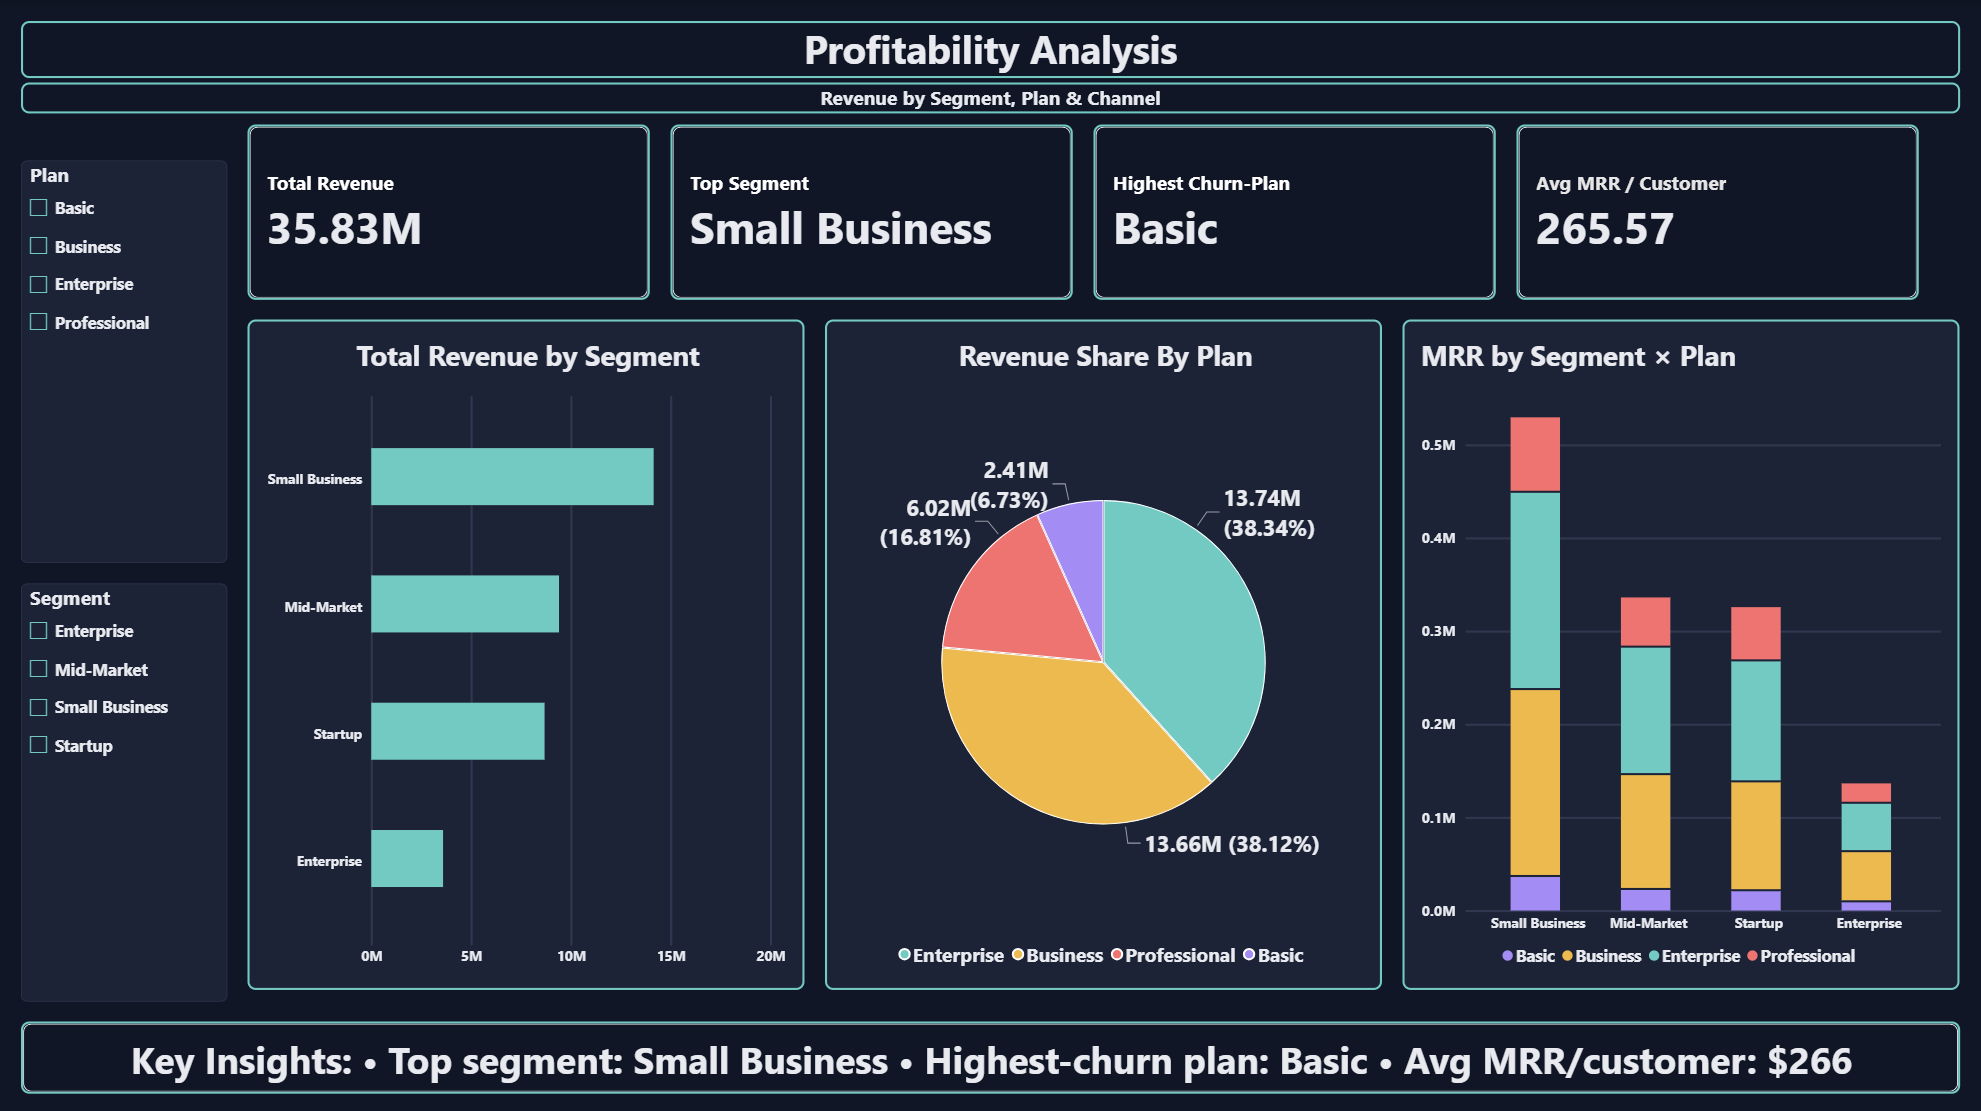

The page's visual inventory and layout, read from the dashboard file:
{"tool":"powerbi","page":{"name":"Profitability","canvas":[1920,1080],"ordinal":3},"visuals":[{"type":"textbox","box":[20,20,1880,55],"z":0},{"type":"clusteredBarChart","title":"Total Revenue by Segment","fields":{"Category":["customers_for_powerbi.segment"],"Y":["Sum(financial_transactions.amount)"]},"box":[240,310,540,650],"z":1000},{"type":"pieChart","title":"Revenue Share By Plan","fields":{"Category":["customers_for_powerbi.plan"],"Y":["Sum(financial_transactions.amount)"]},"box":[800,310,540,650],"z":2000},{"type":"slicer","fields":{"Values":["customers_for_powerbi.plan"]},"box":[20.8,155,200,390],"z":3000},{"type":"cardVisual","fields":{"Data":["customers_for_powerbi.Total Revenue"]},"box":[240,120,390,170],"z":4000},{"type":"cardVisual","fields":{"Data":["customers_for_powerbi.TopSegmentText"]},"box":[650,120,390,170],"z":5000},{"type":"cardVisual","fields":{"Data":["customers_for_powerbi.TopChurnPlanText"]},"box":[1060,120,390,170],"z":6000},{"type":"textbox","box":[20,80,1880,30],"z":7000},{"type":"slicer","fields":{"Values":["customers_for_powerbi.segment"]},"box":[20,565,200,405],"z":8000},{"type":"cardVisual","fields":{"Data":["customers_for_powerbi.AvgMRRPerCustomer"]},"box":[1470,120,390,170],"z":9000},{"type":"columnChart","title":"MRR by Segment × Plan","fields":{"Category":["customers_for_powerbi.segment"],"Y":["Sum(customers_for_powerbi.mrr)"],"Series":["customers_for_powerbi.plan"]},"box":[1360,310,540,650],"z":10000},{"type":"cardVisual","fields":{"Data":["customers_for_powerbi.KeyInsightsProfitText"]},"box":[20,990,1880,70],"z":11000}]}

Visuals, with their boxes in screenshot pixels (x1, y1, x2, y2), scaled from the page's 1920x1080 canvas onto the 1981x1111 screenshot:
textbox: 21, 21, 1960, 77
"Total Revenue by Segment" clusteredBarChart: 248, 319, 805, 988
"Revenue Share By Plan" pieChart: 825, 319, 1383, 988
slicer - customers_for_powerbi.plan: 21, 159, 228, 561
cardVisual - customers_for_powerbi.Total Revenue: 248, 123, 650, 298
cardVisual - customers_for_powerbi.TopSegmentText: 671, 123, 1073, 298
cardVisual - customers_for_powerbi.TopChurnPlanText: 1094, 123, 1496, 298
textbox: 21, 82, 1960, 113
slicer - customers_for_powerbi.segment: 21, 581, 227, 998
cardVisual - customers_for_powerbi.AvgMRRPerCustomer: 1517, 123, 1919, 298
"MRR by Segment × Plan" columnChart: 1403, 319, 1960, 988
cardVisual - customers_for_powerbi.KeyInsightsProfitText: 21, 1018, 1960, 1090
